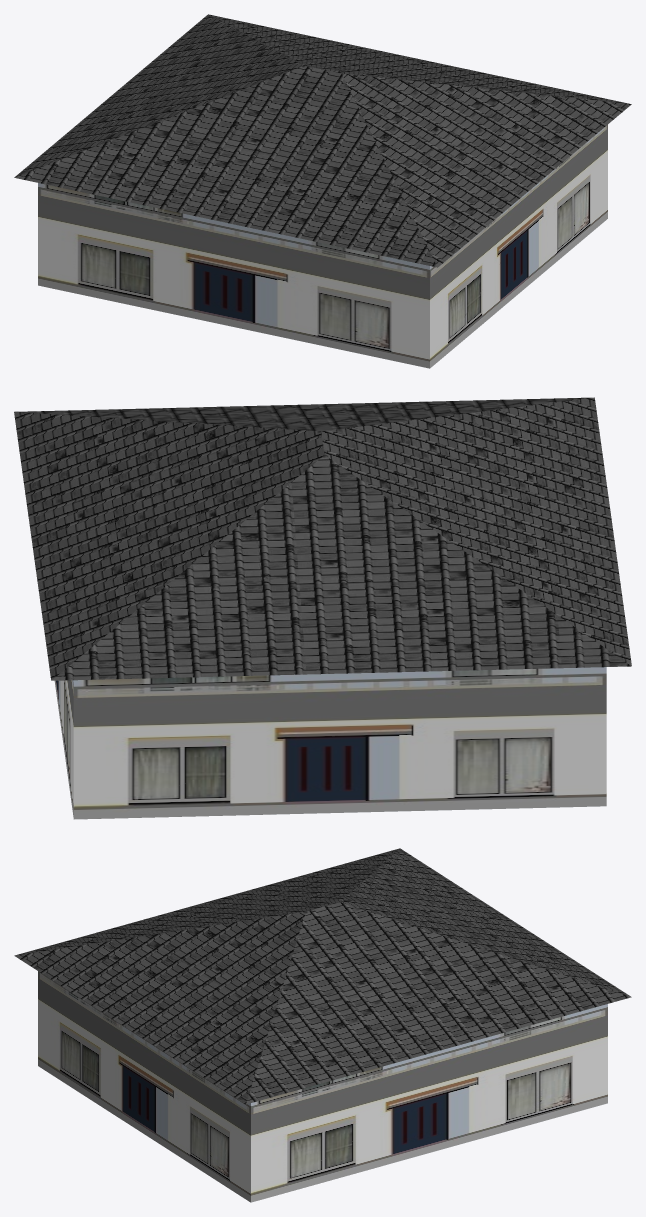
3 views of the same model, one above another, from view 1: azimuth 30°, elevation 25°; view 2: azimuth 150°, elevation 25°; view 3: azimuth 270°, elevation 25° (orthographic). The views are drawn at different scales.
Parts seen in each view (by area): view 1: CityEngineMaterial_8_m, CityEngineMaterial_7_m; view 2: CityEngineMaterial_8_m, CityEngineMaterial_7_m; view 3: CityEngineMaterial_8_m, CityEngineMaterial_7_m.
Part boxes in pixels (x1,y1,x2,y2): CityEngineMaterial_8_m: (14,14,631,267); CityEngineMaterial_7_m: (38,125,607,368); CityEngineMaterial_8_m: (14,397,631,680); CityEngineMaterial_7_m: (54,667,606,819); CityEngineMaterial_8_m: (14,848,631,1104); CityEngineMaterial_7_m: (38,971,607,1202).
Bounding box in the file's own units: 32.71 × 10.59 × 33.33.
